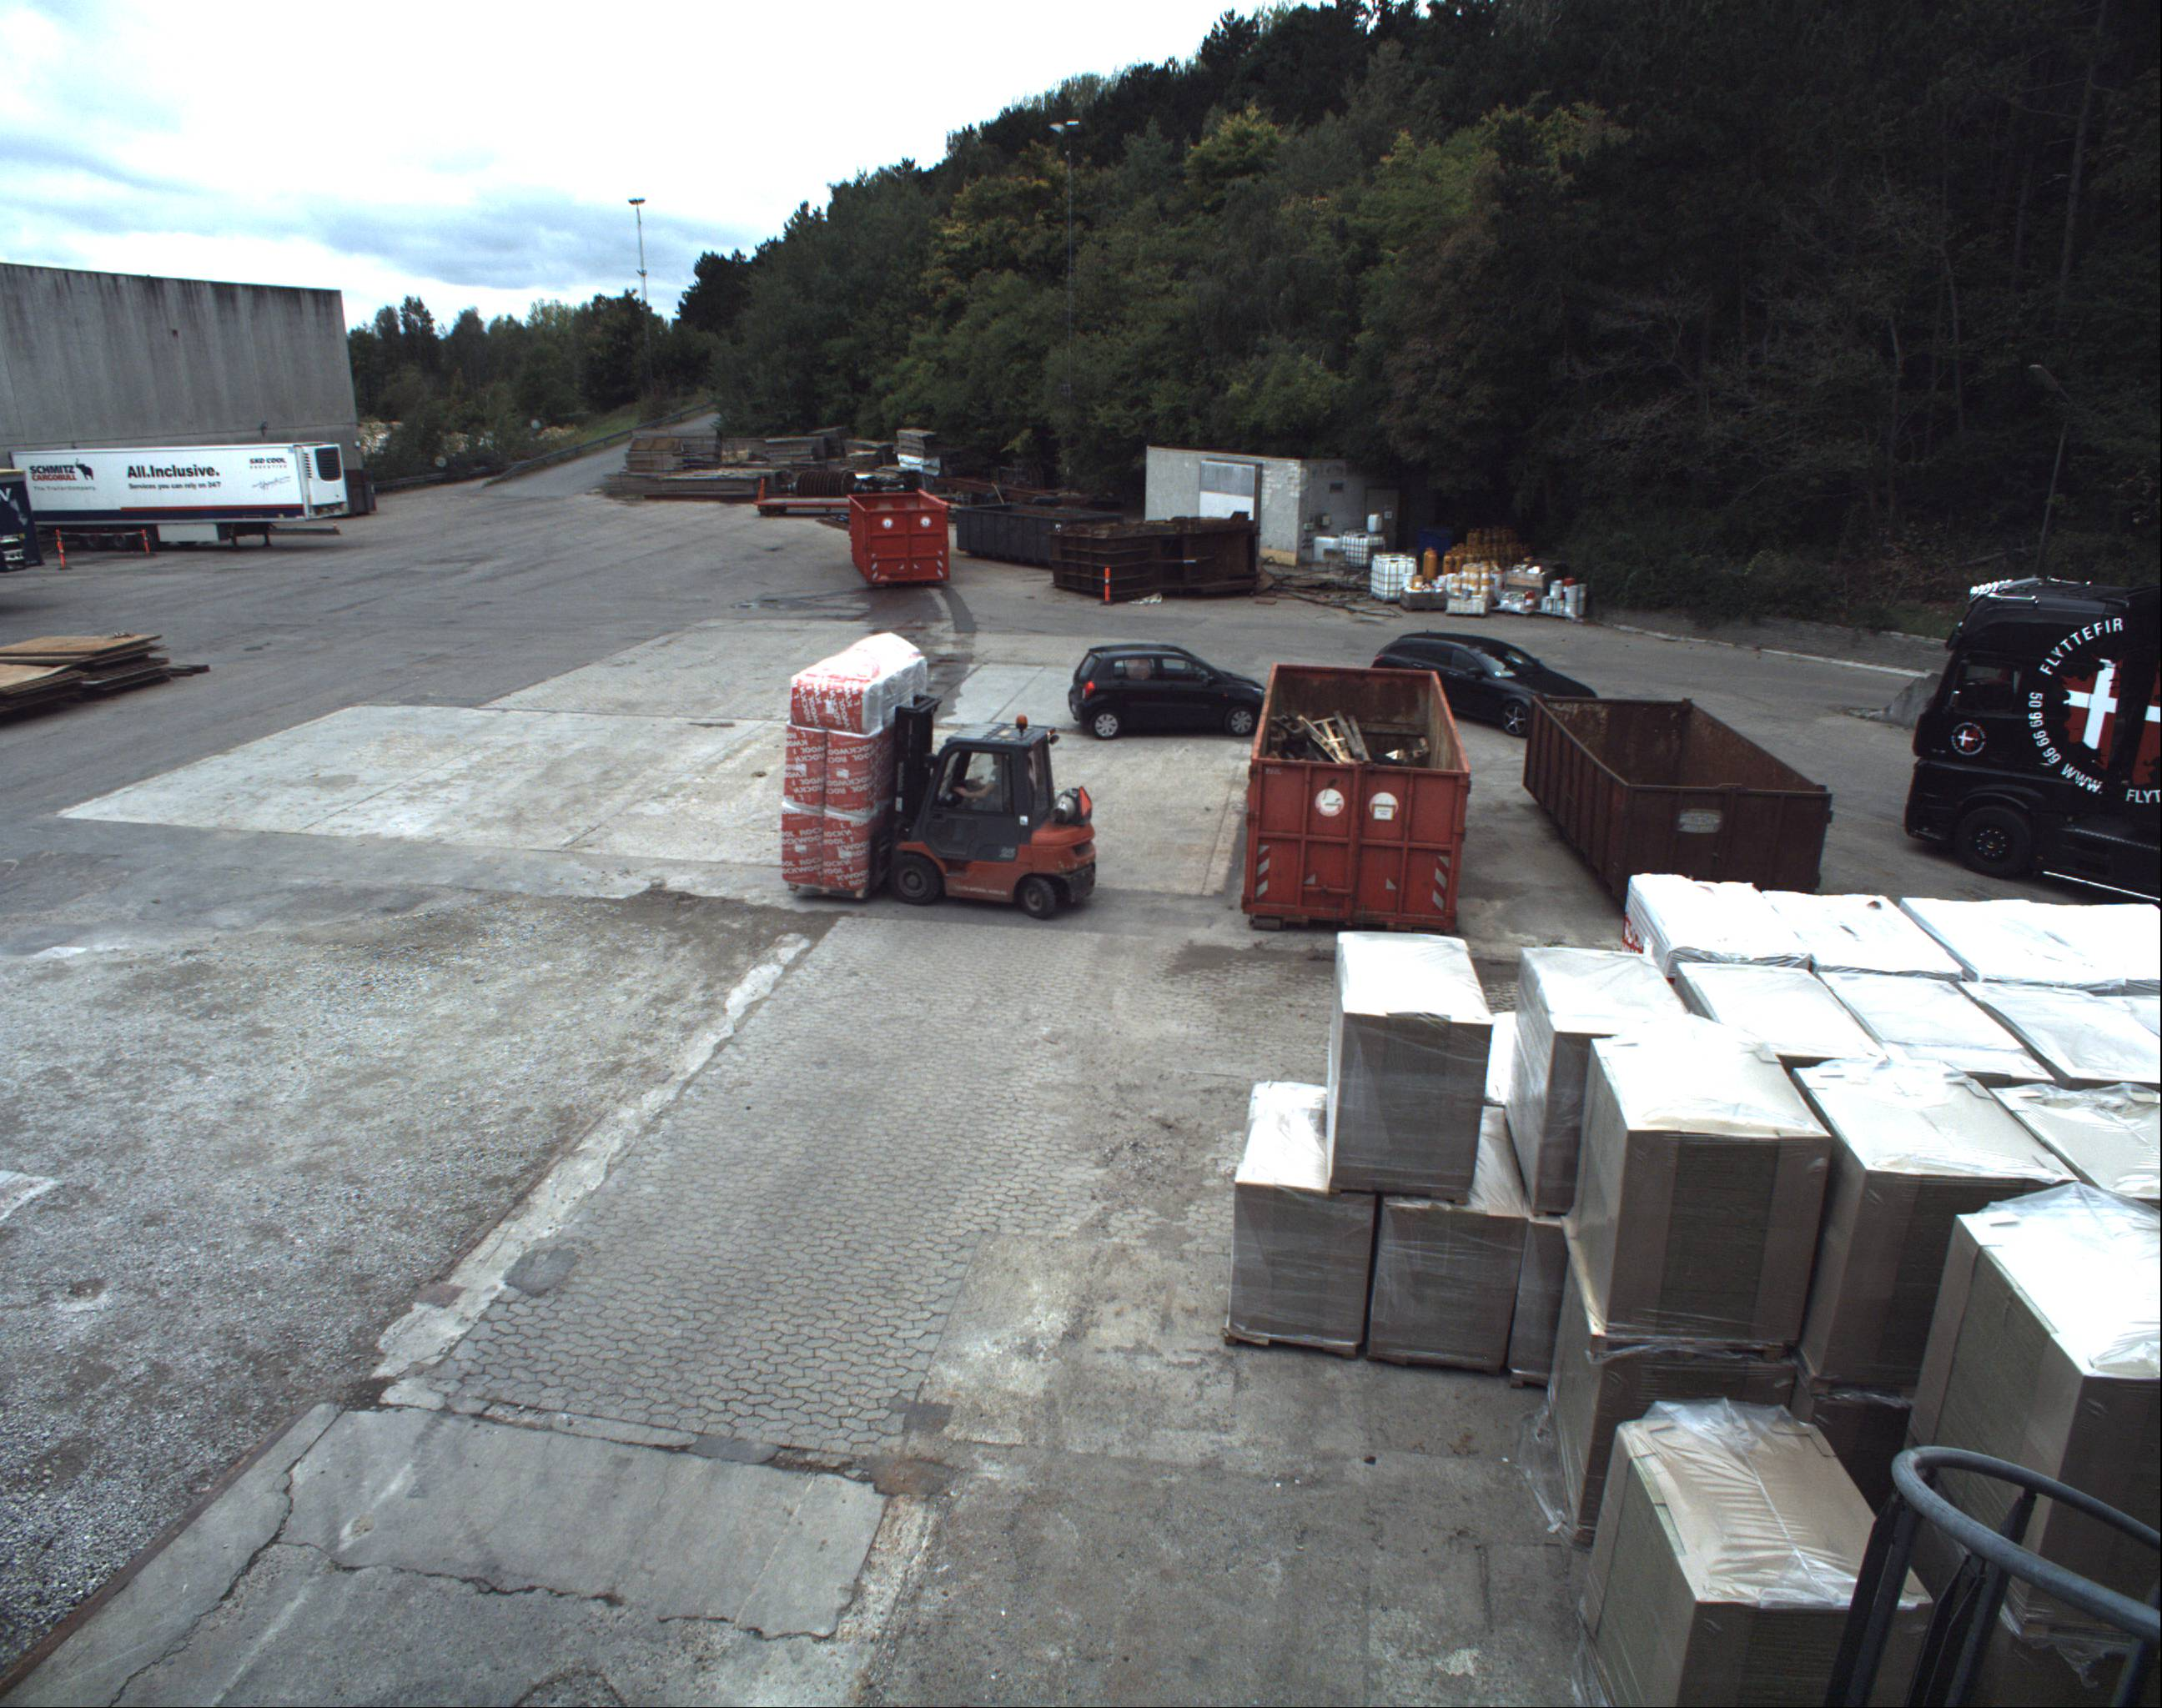rockwool_batts: (769, 630, 921, 890)
